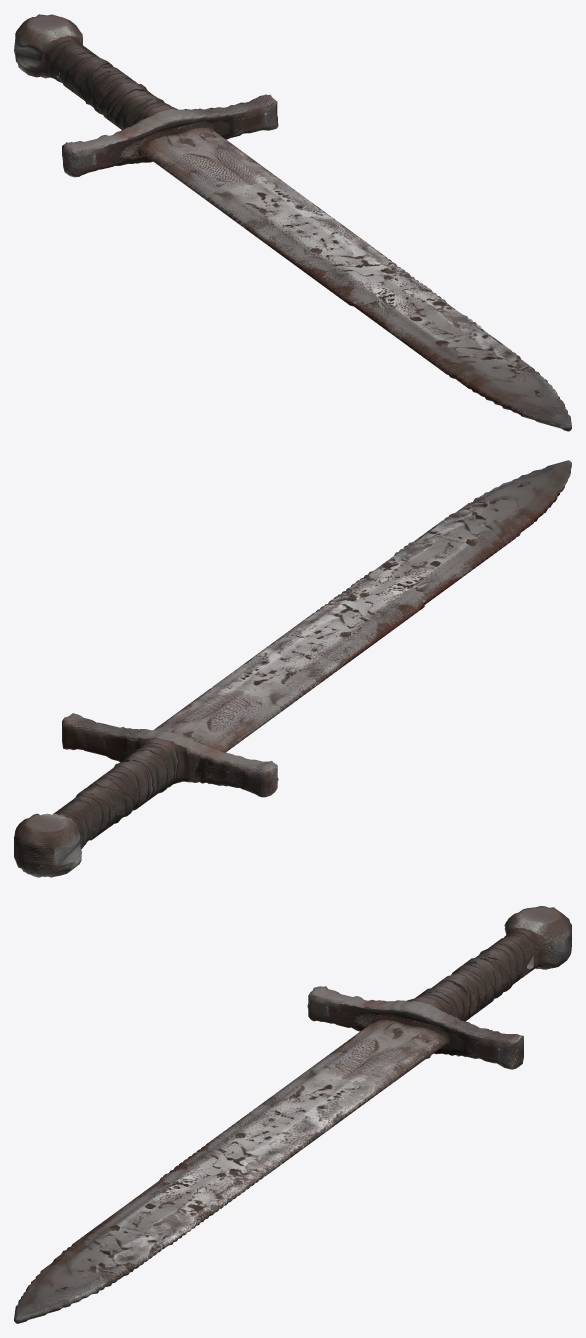
The model's file is Meshy_AI_Rusted_Dagger_0707111951_texture.fbx.
3 views of the same model, one above another, from view 1: azimuth 30°, elevation 25°; view 2: azimuth 150°, elevation 25°; view 3: azimuth 330°, elevation 25° (orthographic).
Parts seen in each view (by area): view 1: Mesh_0; view 2: Mesh_0; view 3: Mesh_0.
Boxes of the visible parts, <box> form: Mesh_0: <box>14,14,571,431</box>; Mesh_0: <box>14,460,571,877</box>; Mesh_0: <box>14,906,571,1323</box>.
Size of the model in its own units: 42.66 by 9 by 191.
Materials: 1 (1 with a texture image).
